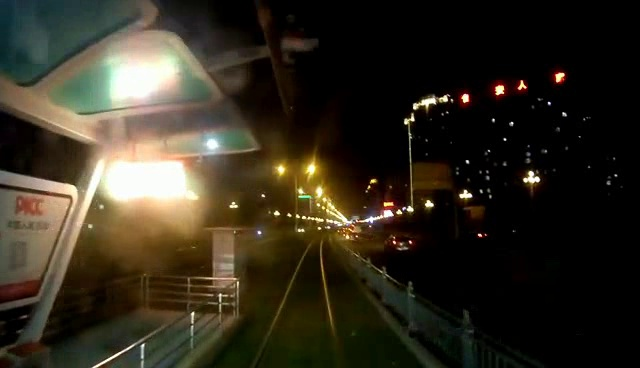car: (386, 232, 418, 256)
